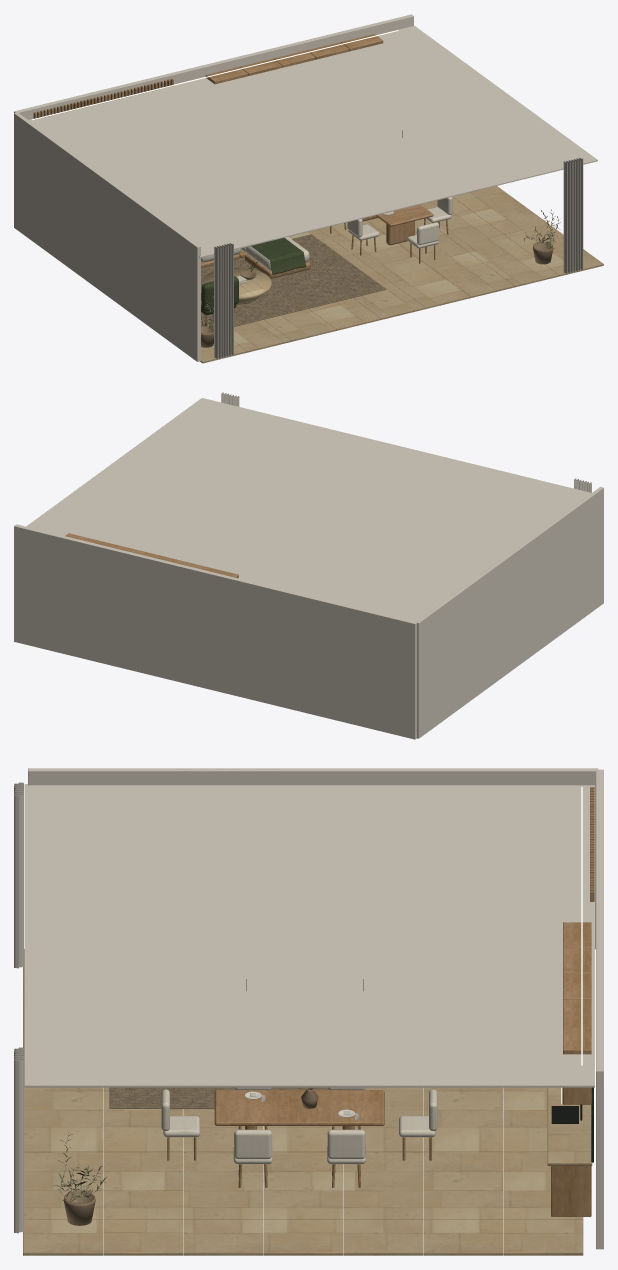
File: apartment14.glb
3 renders of one model, top to bottom at view 1: azimuth 30°, elevation 25°; view 2: azimuth 150°, elevation 25°; view 3: azimuth 270°, elevation 25°, orthographic. The views are drawn at different scales.
Visible parts, largest first — view 1: Apartment14_Cycles63_surface, 62 Apt14 Ceiling cove LED.001; view 2: Apartment14_Cycles63_surface; view 3: Apartment14_Cycles63_surface.
Part boxes in pixels (x1,y1,x2,y2): Apartment14_Cycles63_surface: (14,14,603,363); 62 Apt14 Ceiling cove LED.001: (32,30,398,120); Apartment14_Cycles63_surface: (14,392,603,739); Apartment14_Cycles63_surface: (14,768,603,1255).
Size of the model in its own units: 10.9 by 2.98 by 8.85.
Materials: 4 (1 with a texture image).
